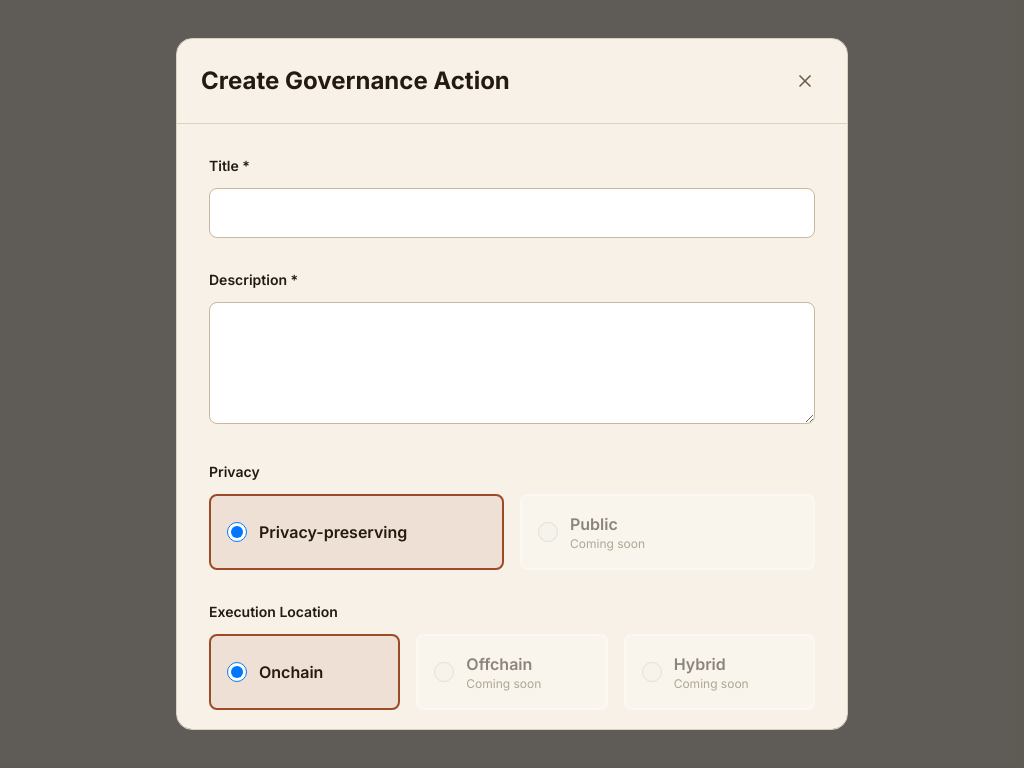
CreateProposalModal › surfaces a 403 rejection instead of silently succeeding
Type "Fund the garden" into the field labelled "Title *" at (512, 213), box [209,188,815,238]
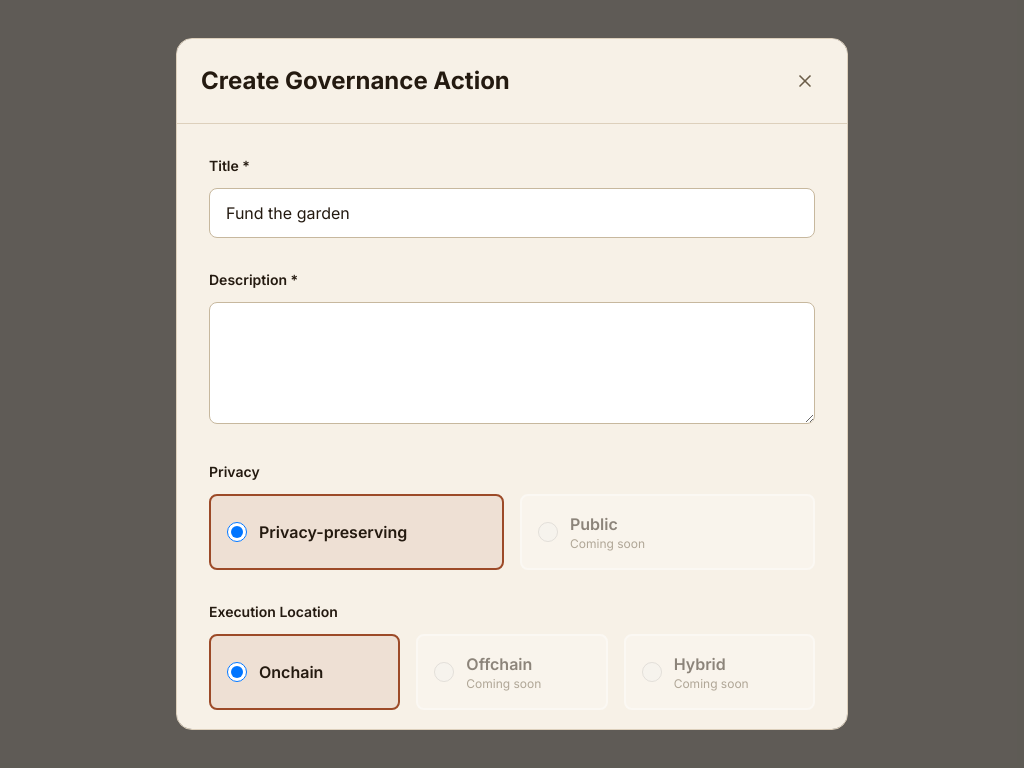
Type "Details here" into the text box labelled "Description *" at (512, 363), box [209,302,815,424]
(page scrolled)
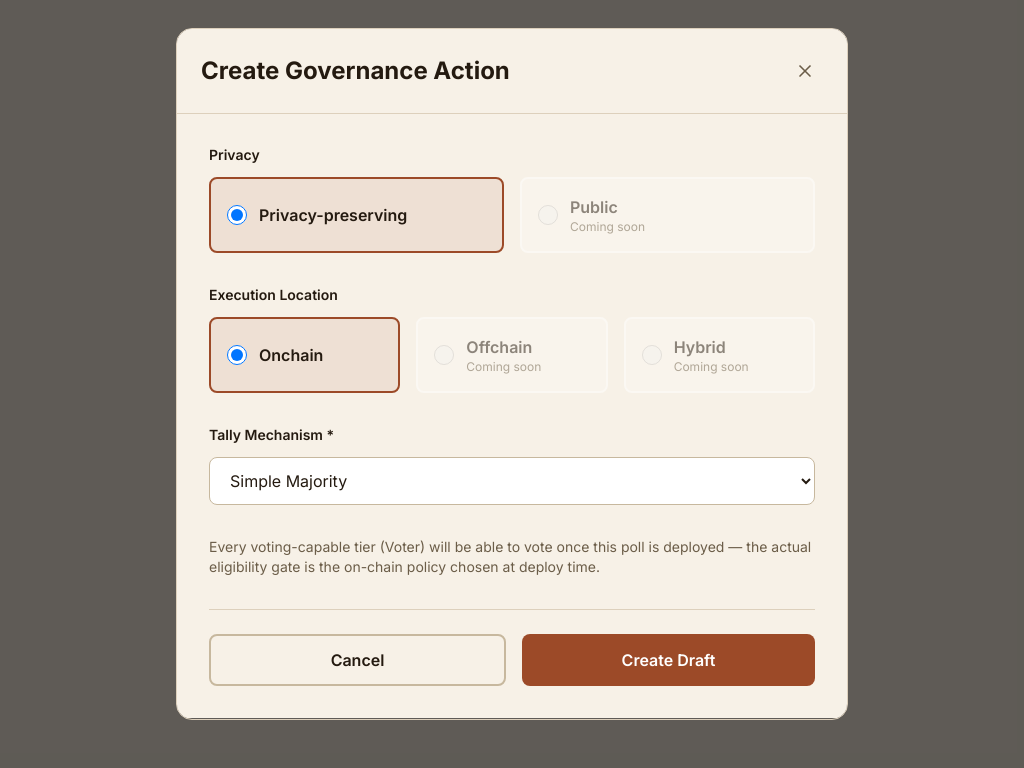
Click the button "Create Draft" at (668, 660), box [522,634,815,686]
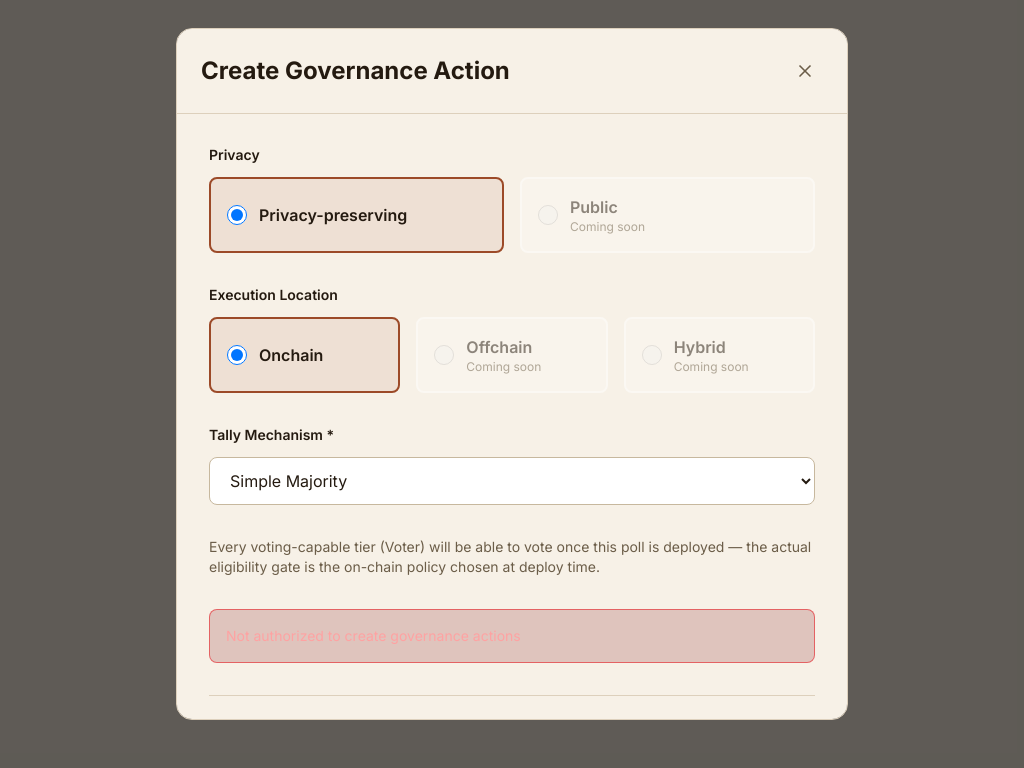
Expected: the text "Not authorized to create governance actions" is shown, [226,627,521,644]
